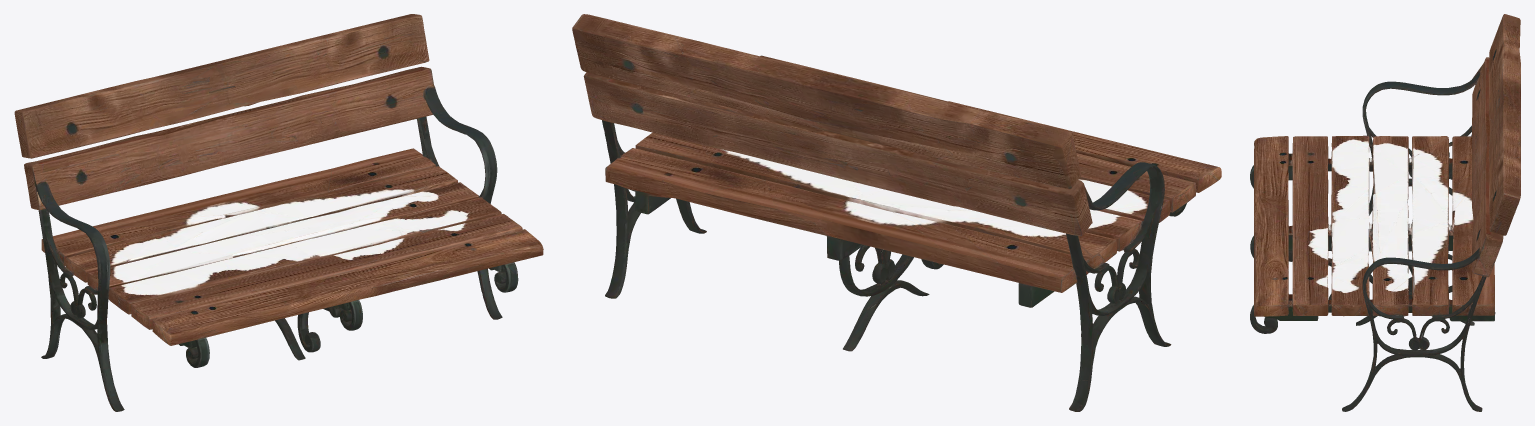
Rendered from wooden_bench.glb.
The picture shows the model from 3 angles, left to right: view 1: azimuth 30°, elevation 25°; view 2: azimuth 150°, elevation 25°; view 3: azimuth 270°, elevation 25°; orthographic projection. The views are drawn at different scales.
Bounding box in the file's own units: 1.9 × 1.08 × 1.2.
1 material, 1 textured.
